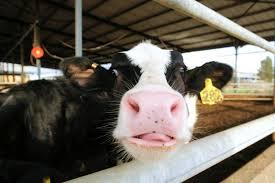cow: (0, 38, 234, 183)
